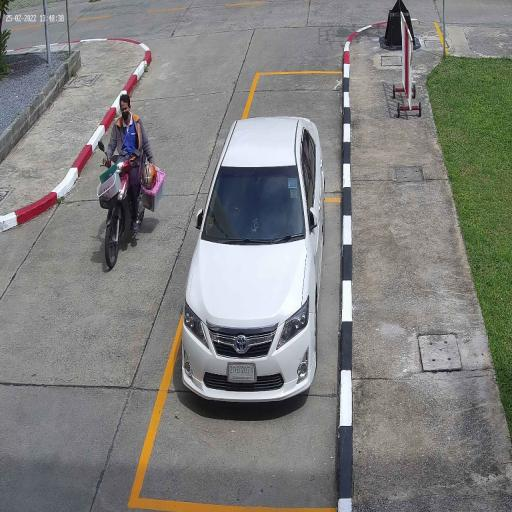car: (180, 115, 324, 403)
motorcycle: (102, 156, 146, 270)
